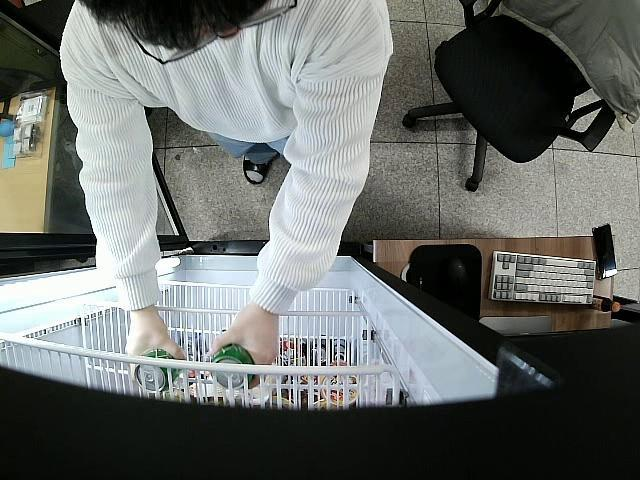12_chilsungCider: (210, 345, 252, 392), (133, 354, 180, 393)
